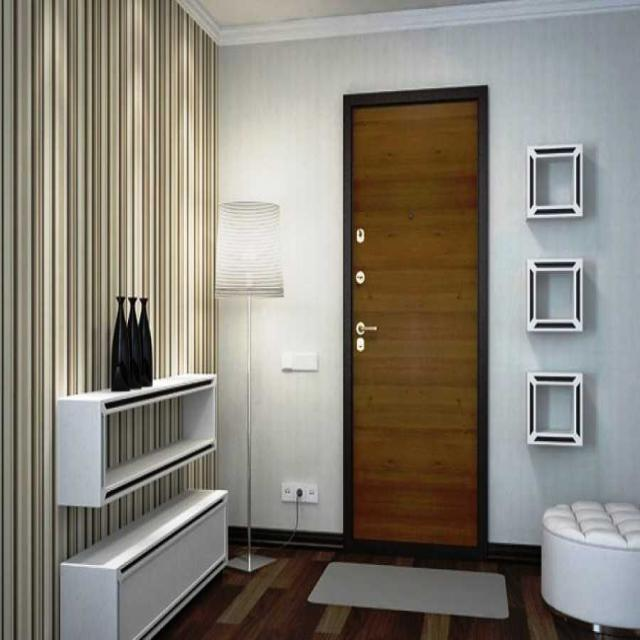close: (344, 98, 488, 547)
